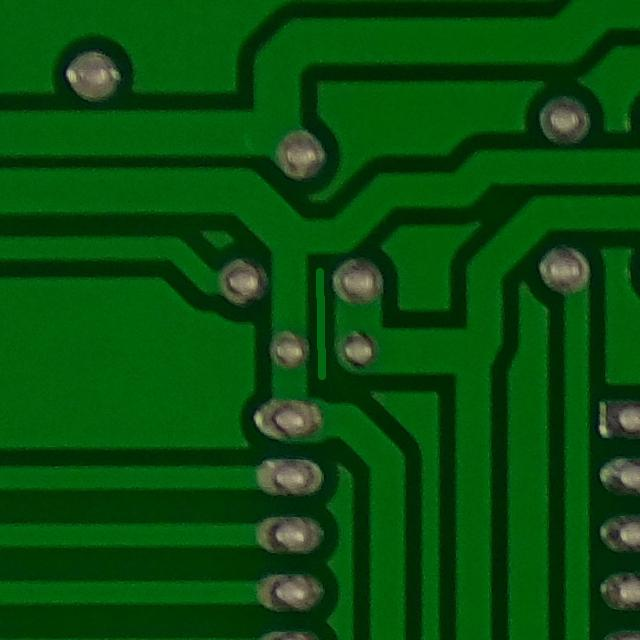spurious_copper: (300, 253, 341, 387)
